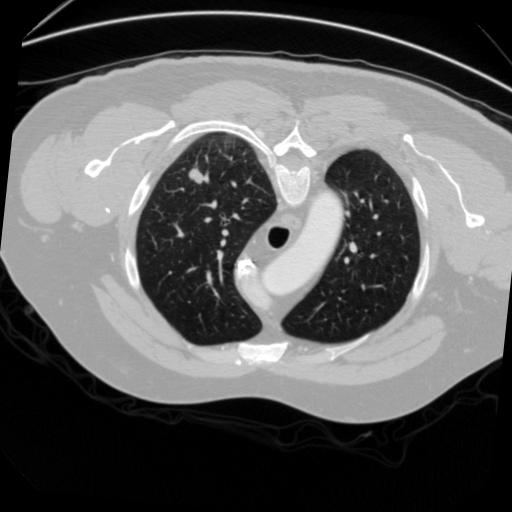nodule: (185, 167, 206, 188)
